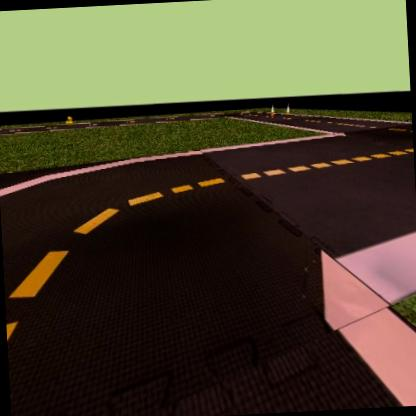Cone: (269, 100, 277, 118), (285, 99, 292, 118)
Duckie: (63, 114, 76, 125)
